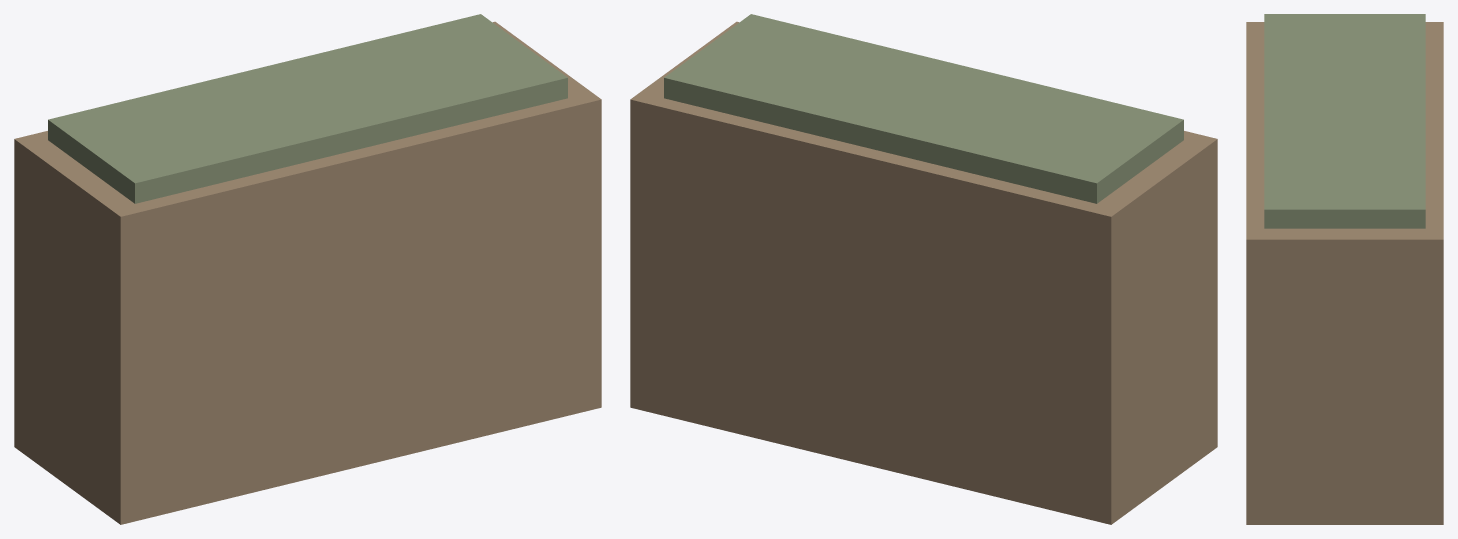
The model's file is iz2_district_courtyard_pergola.glb.
3 views of the same model, side by side, from view 1: azimuth 30°, elevation 25°; view 2: azimuth 150°, elevation 25°; view 3: azimuth 270°, elevation 25° (orthographic). The views are drawn at different scales.
Visible parts, largest first — view 1: body; view 2: body; view 3: body.
Boxes of the visible parts, box(x1,y1,x2,y2) form: body: box(14, 14, 601, 524); body: box(630, 14, 1217, 524); body: box(1246, 14, 1443, 524).
Size of the model in its own units: 1.46 by 0.9552 by 0.561.
